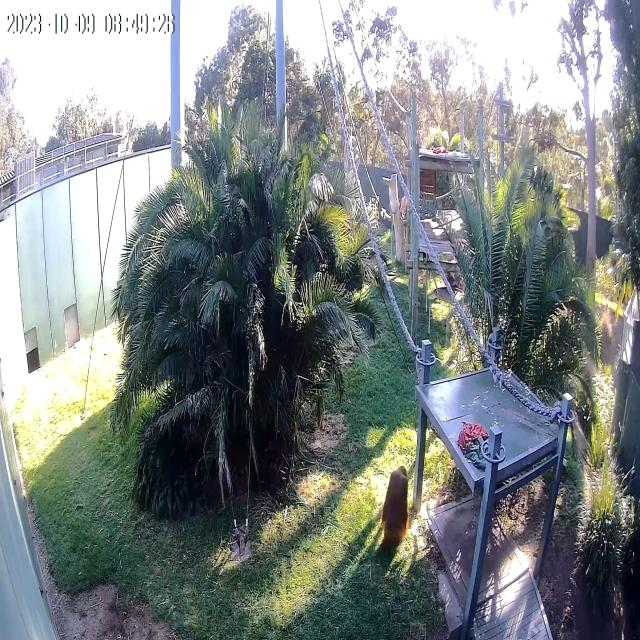orangutan: (380, 465, 409, 550)
